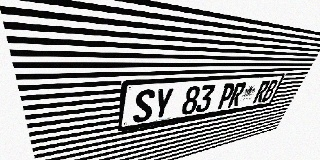3: (195, 84, 216, 113)
8: (180, 85, 202, 115)
B: (261, 80, 279, 102)
P: (216, 83, 236, 110)
R: (227, 82, 247, 108), (252, 80, 271, 103)
S: (132, 89, 156, 123)
Y: (152, 87, 174, 120)
